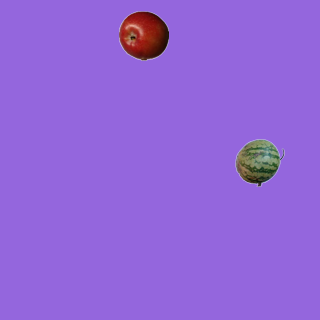Apple Braeburn: (118, 10, 168, 60)
Watermelon: (234, 137, 284, 187)
